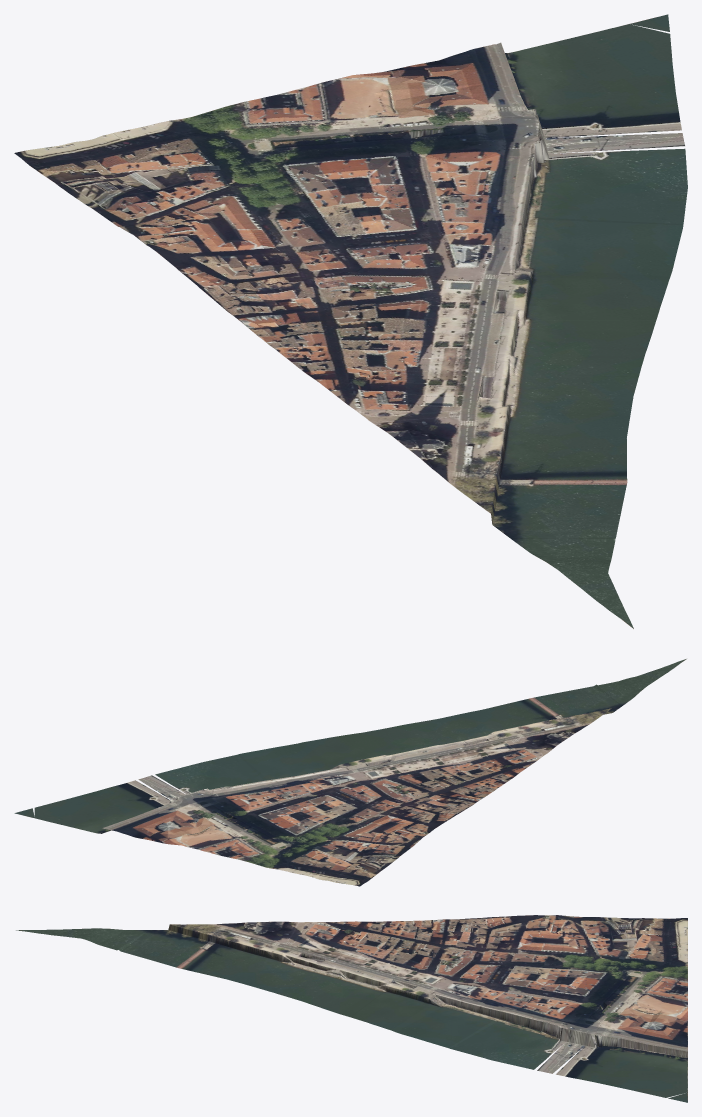
File: gml_e3cdfa42-929d-4954-904e-fa4807d0a2bd.gltf
3 renders of one model, top to bottom at view 1: azimuth 30°, elevation 25°; view 2: azimuth 150°, elevation 25°; view 3: azimuth 270°, elevation 25°, orthographic. The views are drawn at different scales.
Visible parts, largest first — view 1: Z_UP; view 2: Z_UP; view 3: Z_UP.
Part boxes in pixels (left/top/right/bottom): Z_UP: left=14, top=14, right=687, bottom=628; Z_UP: left=14, top=659, right=686, bottom=886; Z_UP: left=16, top=915, right=687, bottom=1102.
Bounding box in the file's own units: 297 × 12.24 × 488.
Materials: 1 (1 with a texture image).
